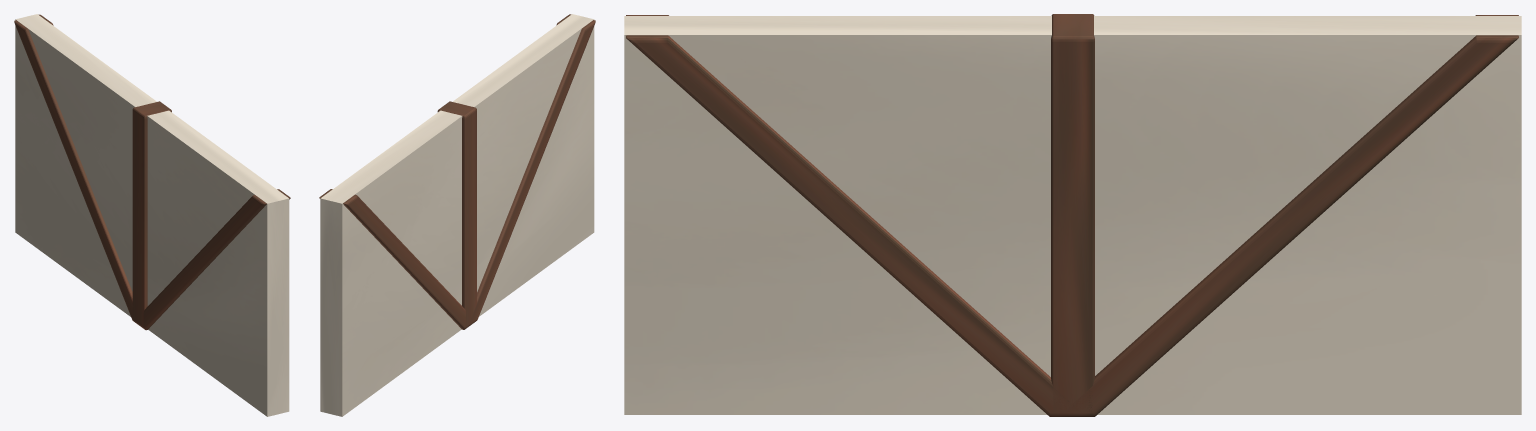
The model's file is Plain_White_Wall.fbx.
The picture shows the model from 3 angles, left to right: view 1: azimuth 30°, elevation 25°; view 2: azimuth 150°, elevation 25°; view 3: azimuth 270°, elevation 25°; orthographic projection. The views are drawn at different scales.
Visible parts, largest first — view 1: Cube.003; view 2: Cube.003; view 3: Cube.003.
Boxes of the visible parts, x1,y1,x2,y2 form: Cube.003: [14, 14, 290, 416]; Cube.003: [319, 14, 595, 416]; Cube.003: [624, 14, 1521, 416].
Size of the model in its own units: 1.16 by 18.02 by 8.44.
4 materials, 4 textured.
